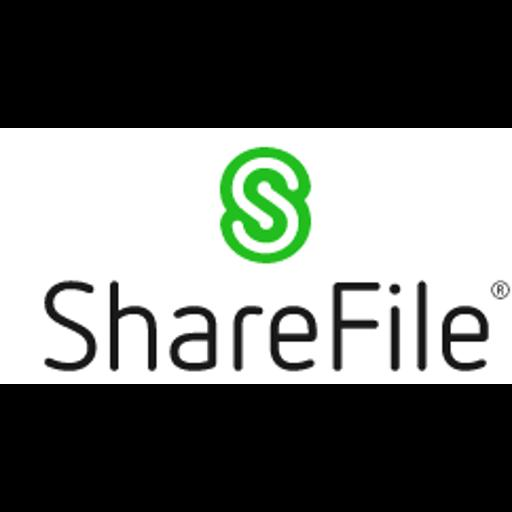Citrix ShareFile: (0, 128, 512, 384)
